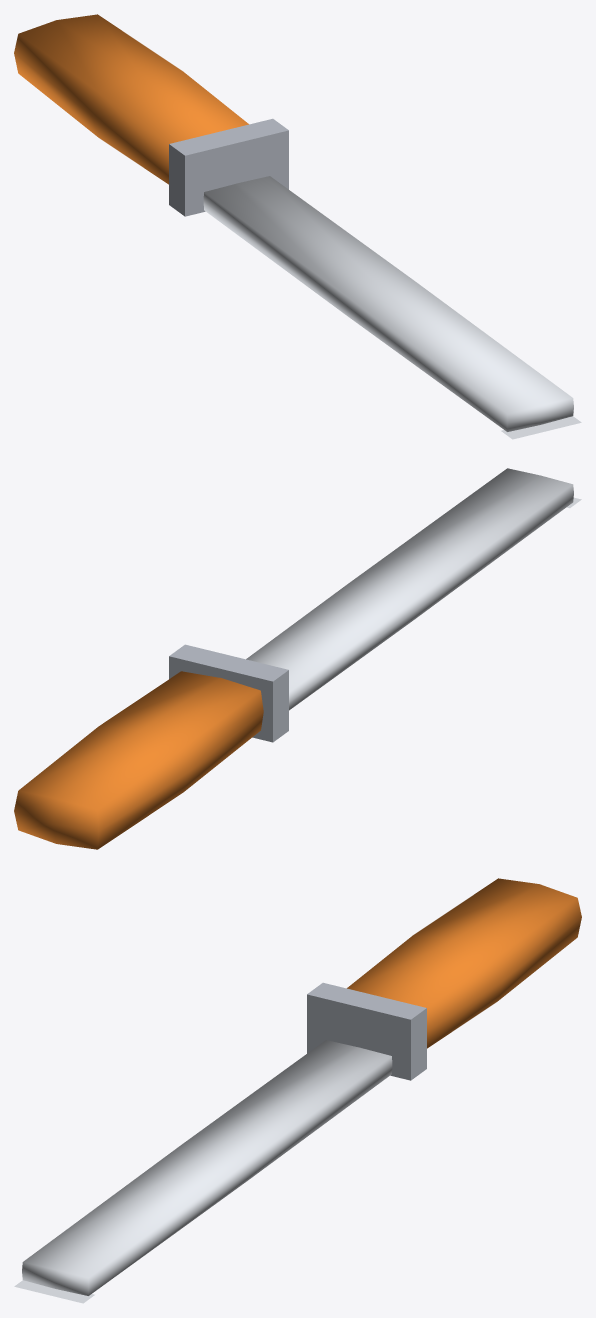
File: kitchen_knife.glb
3 views of the same model, one above another, from view 1: azimuth 30°, elevation 25°; view 2: azimuth 150°, elevation 25°; view 3: azimuth 330°, elevation 25° (orthographic).
Visible parts, largest first — view 1: root; view 2: root; view 3: root.
Boxes of the visible parts, x1,y1,x2,y2 form: root: (14,14,581,439); root: (14,468,581,849); root: (14,878,581,1303).
Bounding box in the file's own units: 0.075 × 0.042 × 0.6175.
